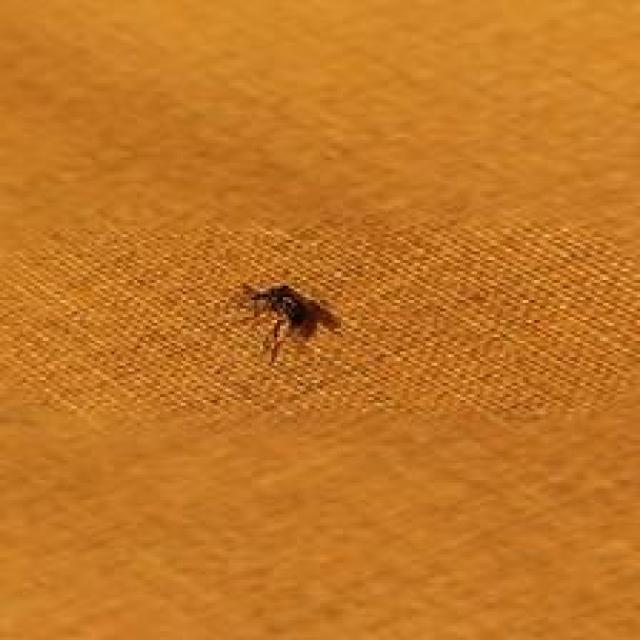Aedes albopictus: (236, 279, 341, 367)
